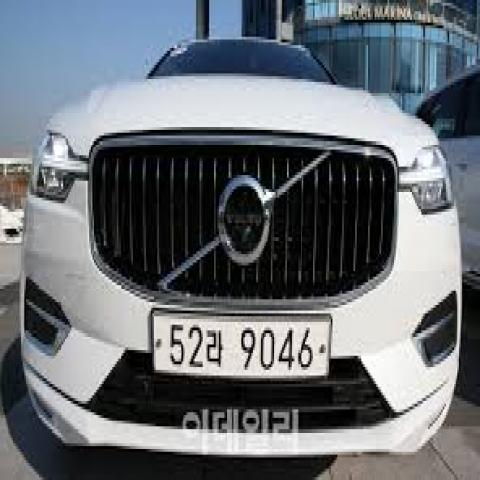LP: (142, 300, 334, 386)
